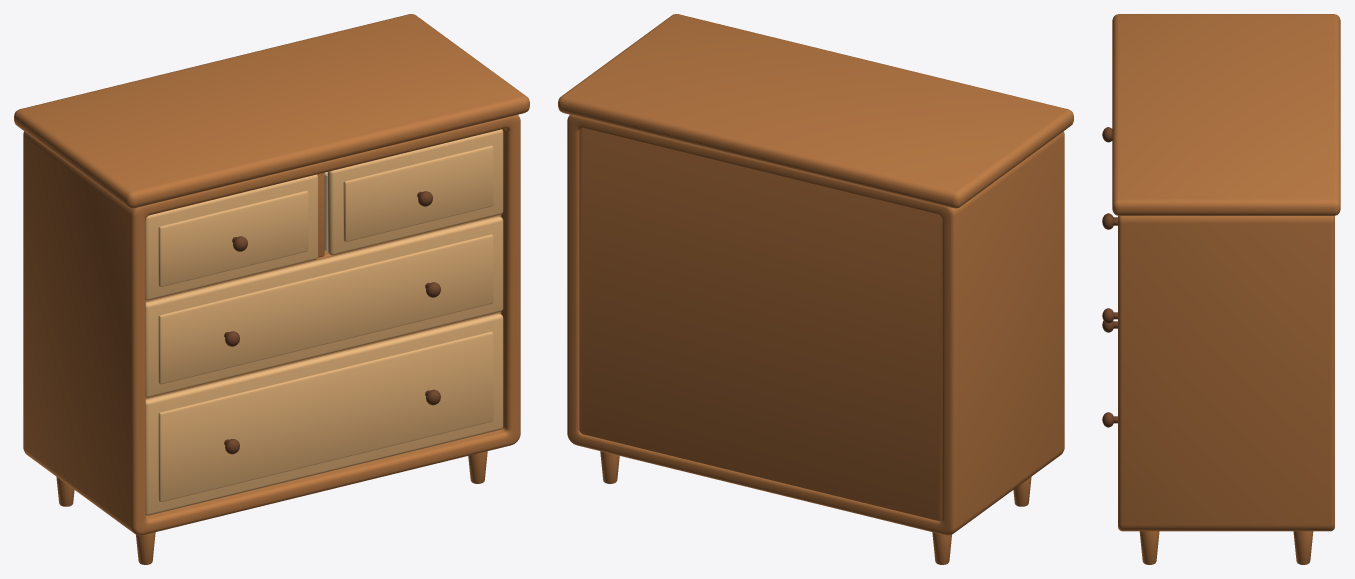
Rendered from comoda_4gavetas_madeira.glb.
The picture shows the model from 3 angles, left to right: view 1: azimuth 30°, elevation 25°; view 2: azimuth 150°, elevation 25°; view 3: azimuth 270°, elevation 25°; orthographic projection. The views are drawn at different scales.
Visible parts, largest first — view 1: comoda_4gavetas_madeira, gaveta_1, gaveta_2, gaveta_4, gaveta_3; view 2: comoda_4gavetas_madeira; view 3: comoda_4gavetas_madeira, gaveta_1.
Boxes of the visible parts, bbox=[...] form: comoda_4gavetas_madeira: bbox=[14, 14, 529, 564]; gaveta_1: bbox=[145, 313, 503, 515]; gaveta_2: bbox=[145, 216, 503, 397]; gaveta_4: bbox=[324, 129, 503, 255]; gaveta_3: bbox=[145, 174, 318, 300]; comoda_4gavetas_madeira: bbox=[558, 14, 1073, 564]; comoda_4gavetas_madeira: bbox=[1112, 14, 1340, 564]; gaveta_1: bbox=[1102, 320, 1117, 427].
Bounding box in the file's own units: 0.995 × 0.921 × 0.5271.
1 material, 1 textured.
